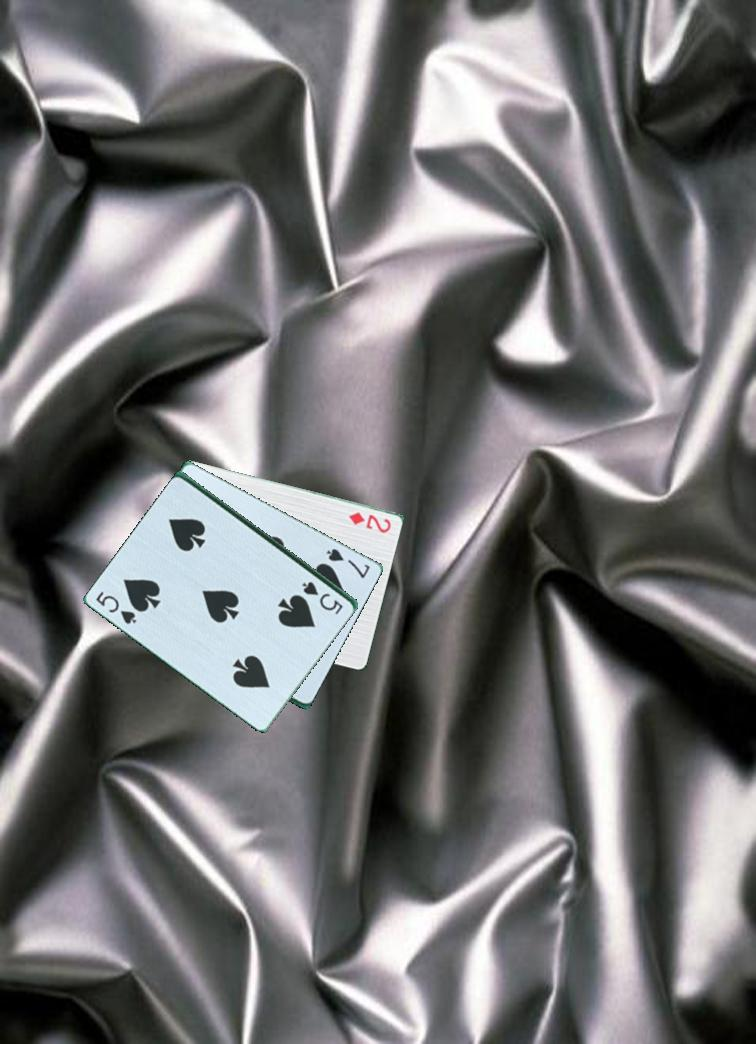2d: (345, 508, 399, 538)
5s: (93, 583, 146, 627), (299, 578, 351, 617)
7s: (323, 545, 373, 581)
